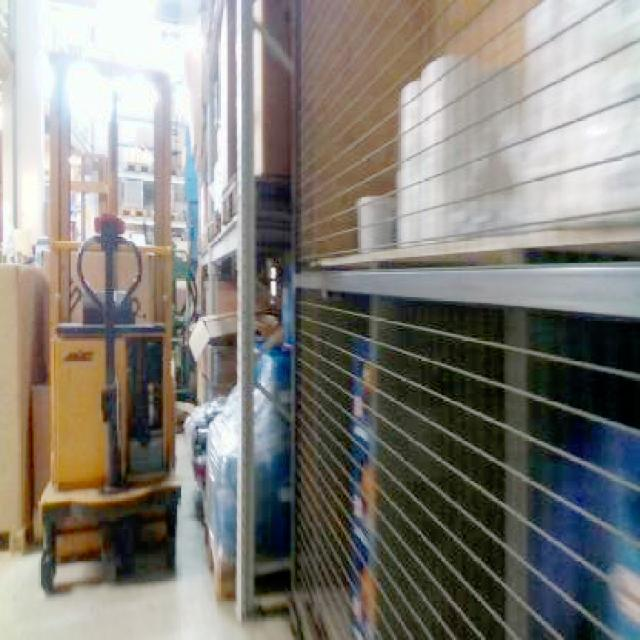ground: (0, 405, 308, 638)
pallet: (285, 0, 638, 638), (35, 49, 182, 594), (188, 0, 295, 622), (186, 306, 292, 620), (0, 257, 46, 560)
